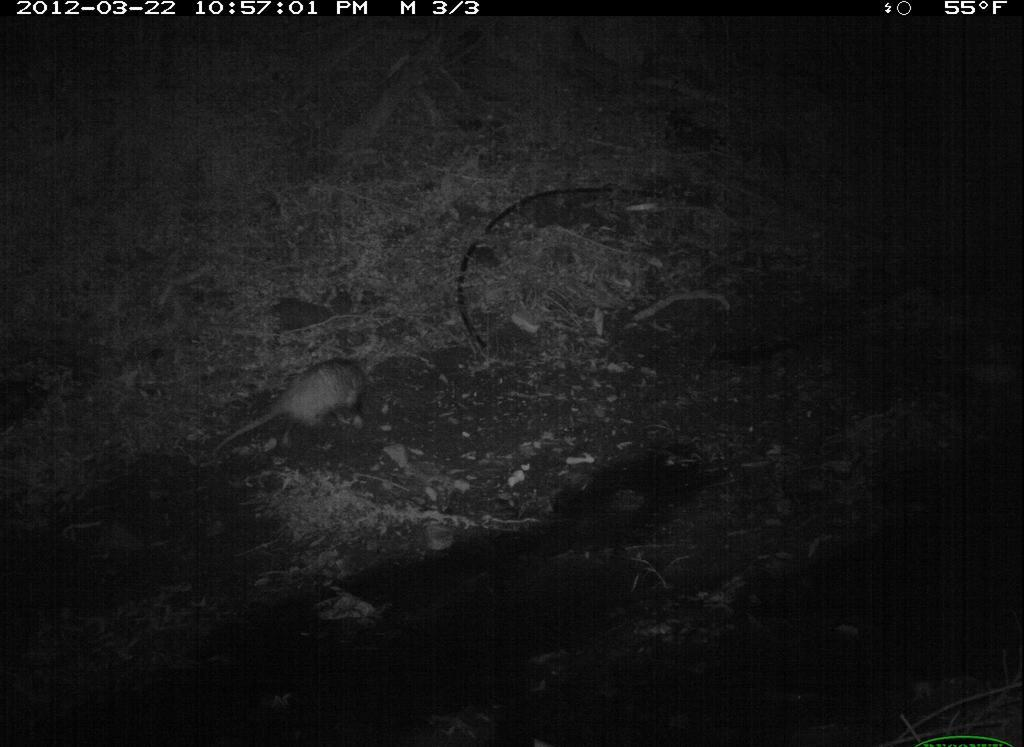opossum: (207, 350, 378, 466)
